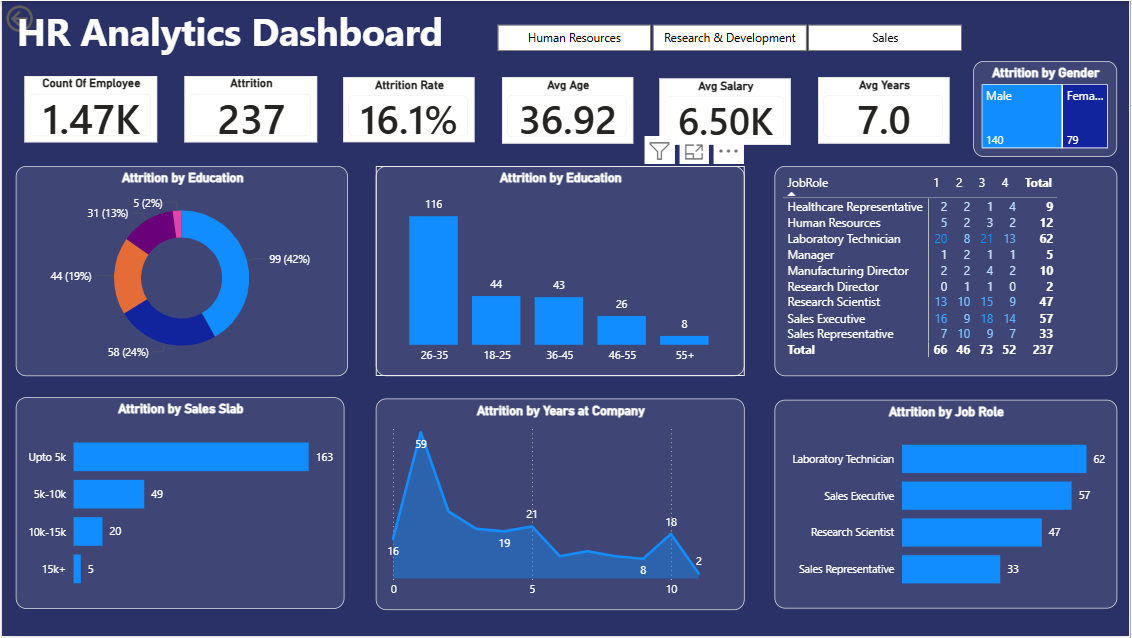

The page's visual inventory and layout, read from the dashboard file:
{"tool":"powerbi","page":{"name":"Page 1","canvas":[1280,720],"ordinal":0},"visuals":[{"type":"cardVisual","title":"Count Of Employee","fields":{"Data":["CountNonNull(HR_Analytics.EmpID)"]},"box":[25.5,85.1,150.3,75.1],"z":0},{"type":"cardVisual","title":"Attrition","fields":{"Data":["Sum(HR_Analytics.AttritionCount)"]},"box":[206.4,85.1,150.3,75.1],"z":1000},{"type":"cardVisual","title":"Avg Age","fields":{"Data":["Avg(HR_Analytics.Age)"]},"box":[566.8,86.5,148.9,75.1],"z":2000},{"type":"cardVisual","title":"Attrition Rate","fields":{"Data":["HR_Analytics.AttritionRate"]},"box":[387.3,86.5,148.9,73.7],"z":3000},{"type":"cardVisual","title":"Avg Years","fields":{"Data":["Avg(HR_Analytics.YearsAtCompany)"]},"box":[925.8,86.5,148.9,75.1],"z":4000},{"type":"cardVisual","title":"Avg Salary","fields":{"Data":["Avg(HR_Analytics.MonthlyIncome)"]},"box":[746.3,87.9,148.9,75.1],"z":5000},{"type":"donutChart","title":"Attrition by Education","fields":{"Category":["HR_Analytics.Education"],"Y":["Sum(HR_Analytics.AttritionCount)"]},"box":[15.6,187.2,377.1,238.2],"z":6000},{"type":"columnChart","title":"Attrition by Education","fields":{"Category":["HR_Analytics.AgeGroup"],"Y":["Sum(HR_Analytics.AttritionCount)"]},"box":[423.9,187.2,418.3,238.2],"z":7000},{"type":"pivotTable","fields":{"Rows":["HR_Analytics.JobRole"],"Columns":["HR_Analytics.JobSatisfaction"],"Values":["Sum(HR_Analytics.AttritionCount)"]},"box":[876.2,187.2,388.5,238.2],"z":8000},{"type":"actionButton","box":[0,0,100,40],"z":9000},{"type":"clusteredBarChart","title":"Attrition by Sales Slab","fields":{"Category":["HR_Analytics.SalarySlab"],"Y":["Sum(HR_Analytics.AttritionCount)"]},"box":[15.6,449.4,372.9,239.6],"z":10000},{"type":"clusteredBarChart","title":"Attrition by Job Role","fields":{"Category":["HR_Analytics.JobRole"],"Y":["Sum(HR_Analytics.AttritionCount)"]},"box":[876.2,452.3,388.5,236.8],"z":11000},{"type":"areaChart","title":"Attrition by Years at Company","fields":{"Category":["HR_Analytics.YearsAtCompany"],"Y":["Sum(HR_Analytics.AttritionCount)"]},"box":[423.2,450.9,418.3,239.6],"z":12000},{"type":"treemap","title":"Attrition by Gender","fields":{"Group":["HR_Analytics.Gender"],"Values":["Sum(HR_Analytics.AttritionCount)"]},"box":[1101.6,68.1,163,109.2],"z":13000},{"type":"textbox","box":[0,0,594.1,68.1],"z":14000},{"type":"slicer","fields":{"Values":["HR_Analytics.Department"]},"box":[535.9,19.8,577.1,44],"z":15000}]}

Visuals, with their boxes in screenshot pixels (x1, y1, x2, y2), scaled from the page's 1280x720 canvas onto the 1132x638 screenshot:
"Count Of Employee" cardVisual: region(23, 75, 155, 142)
"Attrition" cardVisual: region(183, 75, 315, 142)
"Avg Age" cardVisual: region(501, 77, 633, 143)
"Attrition Rate" cardVisual: region(343, 77, 474, 142)
"Avg Years" cardVisual: region(819, 77, 950, 143)
"Avg Salary" cardVisual: region(660, 78, 792, 144)
"Attrition by Education" donutChart: region(14, 166, 347, 377)
"Attrition by Education" columnChart: region(375, 166, 745, 377)
pivotTable - HR_Analytics.JobRole x HR_Analytics.JobSatisfaction: region(775, 166, 1118, 377)
actionButton: region(0, 0, 88, 35)
"Attrition by Sales Slab" clusteredBarChart: region(14, 398, 344, 611)
"Attrition by Job Role" clusteredBarChart: region(775, 401, 1118, 611)
"Attrition by Years at Company" areaChart: region(374, 400, 744, 612)
"Attrition by Gender" treemap: region(974, 60, 1118, 157)
textbox: region(0, 0, 525, 60)
slicer - HR_Analytics.Department: region(474, 18, 984, 57)
